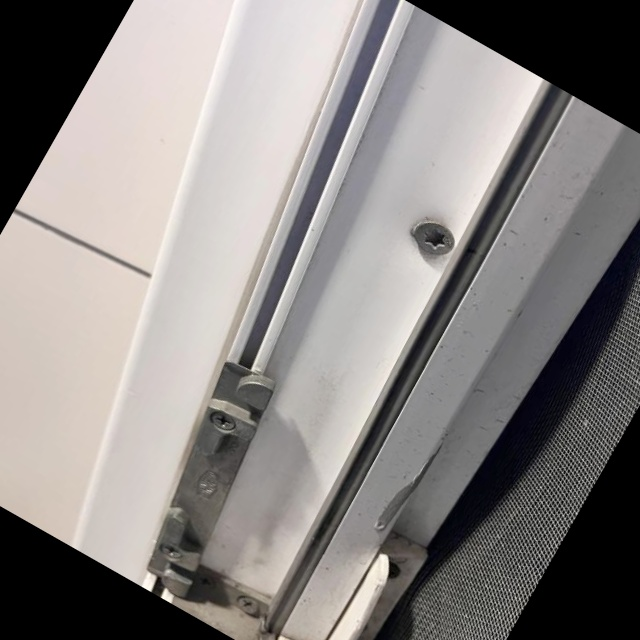phillips: (208, 408, 239, 434), (192, 569, 219, 593), (235, 593, 262, 617), (158, 540, 185, 562)
torx: (408, 213, 461, 262)
